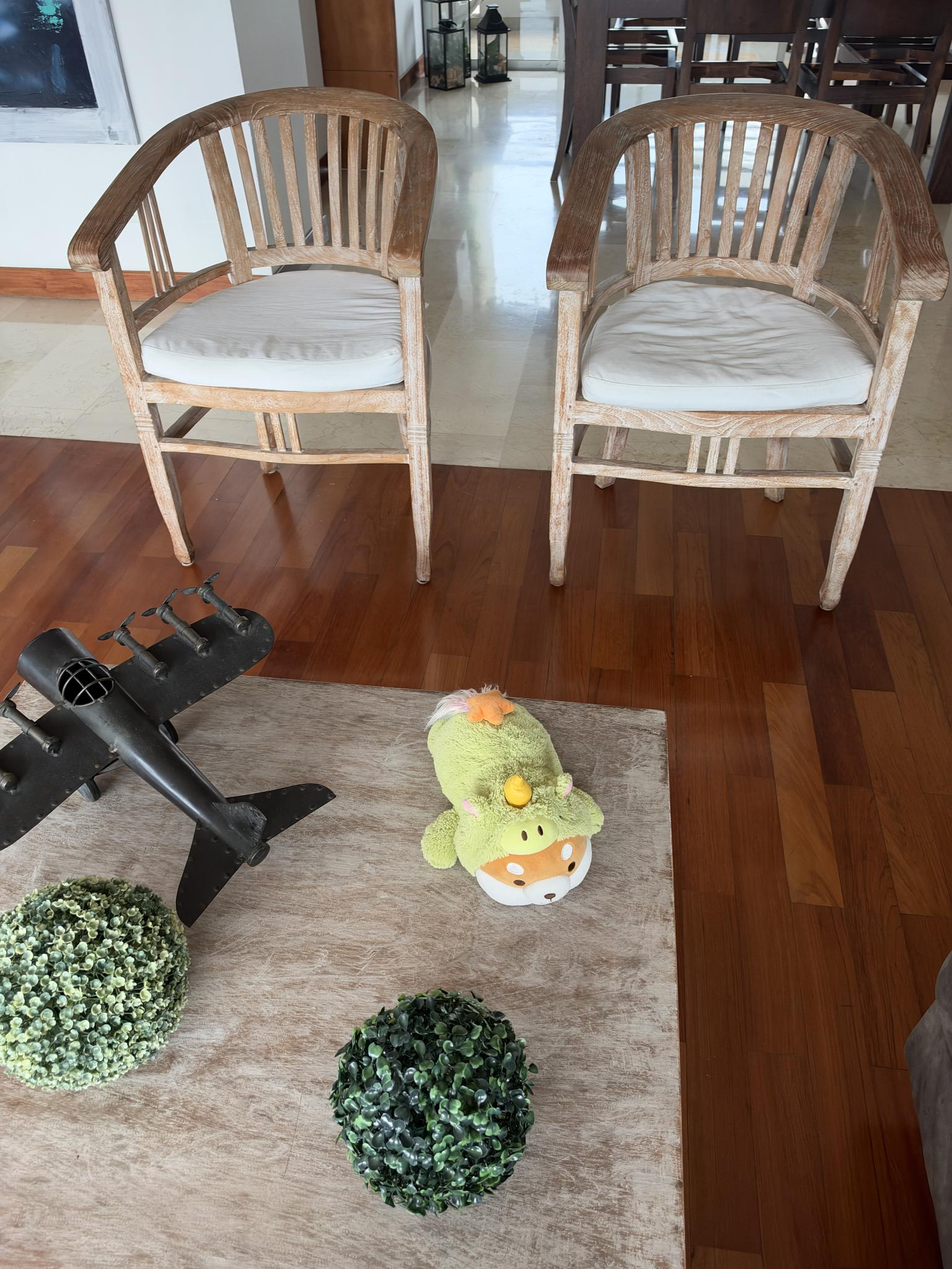peluche_martin: (418, 684, 606, 907)
